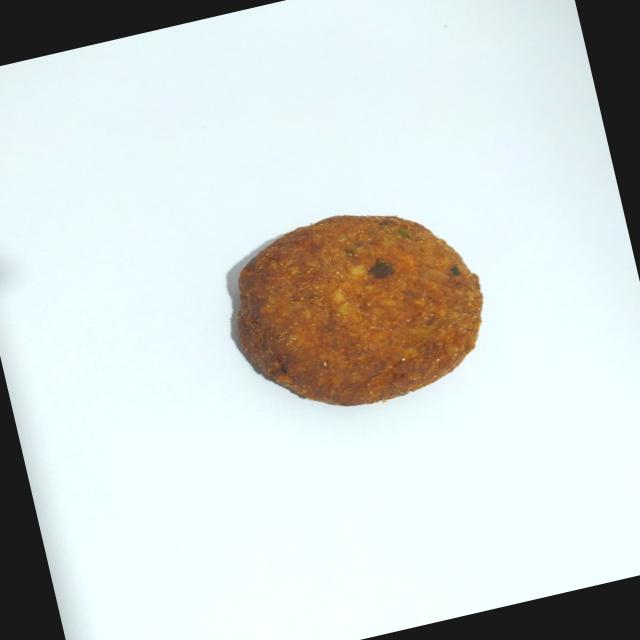Pajagua: (198, 174, 514, 446)
